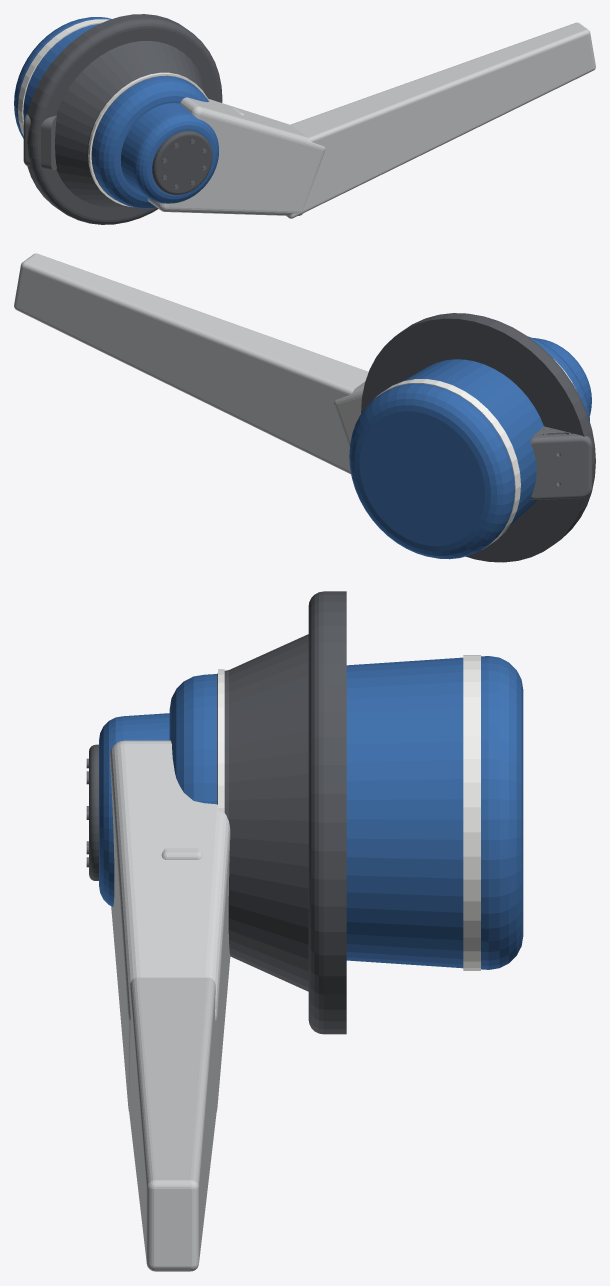
The model's file is arm.glb.
3 renders of one model, top to bottom at view 1: azimuth 30°, elevation 25°; view 2: azimuth 150°, elevation 25°; view 3: azimuth 270°, elevation 25°, orthographic. The views are drawn at different scales.
Visible parts, largest first — view 1: b3, b1, b2, b10; view 2: b3, b1, b10, b2; view 3: b3, b1, b2.
Boxes of the visible parts, x1,y1,x2,y2 form: b3: (14,17,595,218); b1: (27,14,222,224); b2: (121,103,218,203); b10: (23,114,56,170); b3: (14,253,589,559); b1: (361,313,595,562); b10: (530,426,592,499); b2: (533,338,591,415); b3: (110,655,523,1271); b1: (217,591,346,1034); b2: (86,713,169,906).
Bounding box in the file's own units: 0.4384 × 0.1603 × 0.1579.
